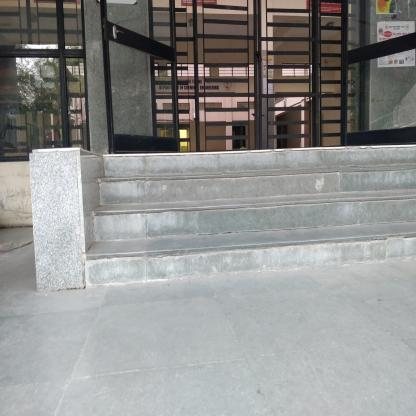stairs: (111, 173, 358, 294)
